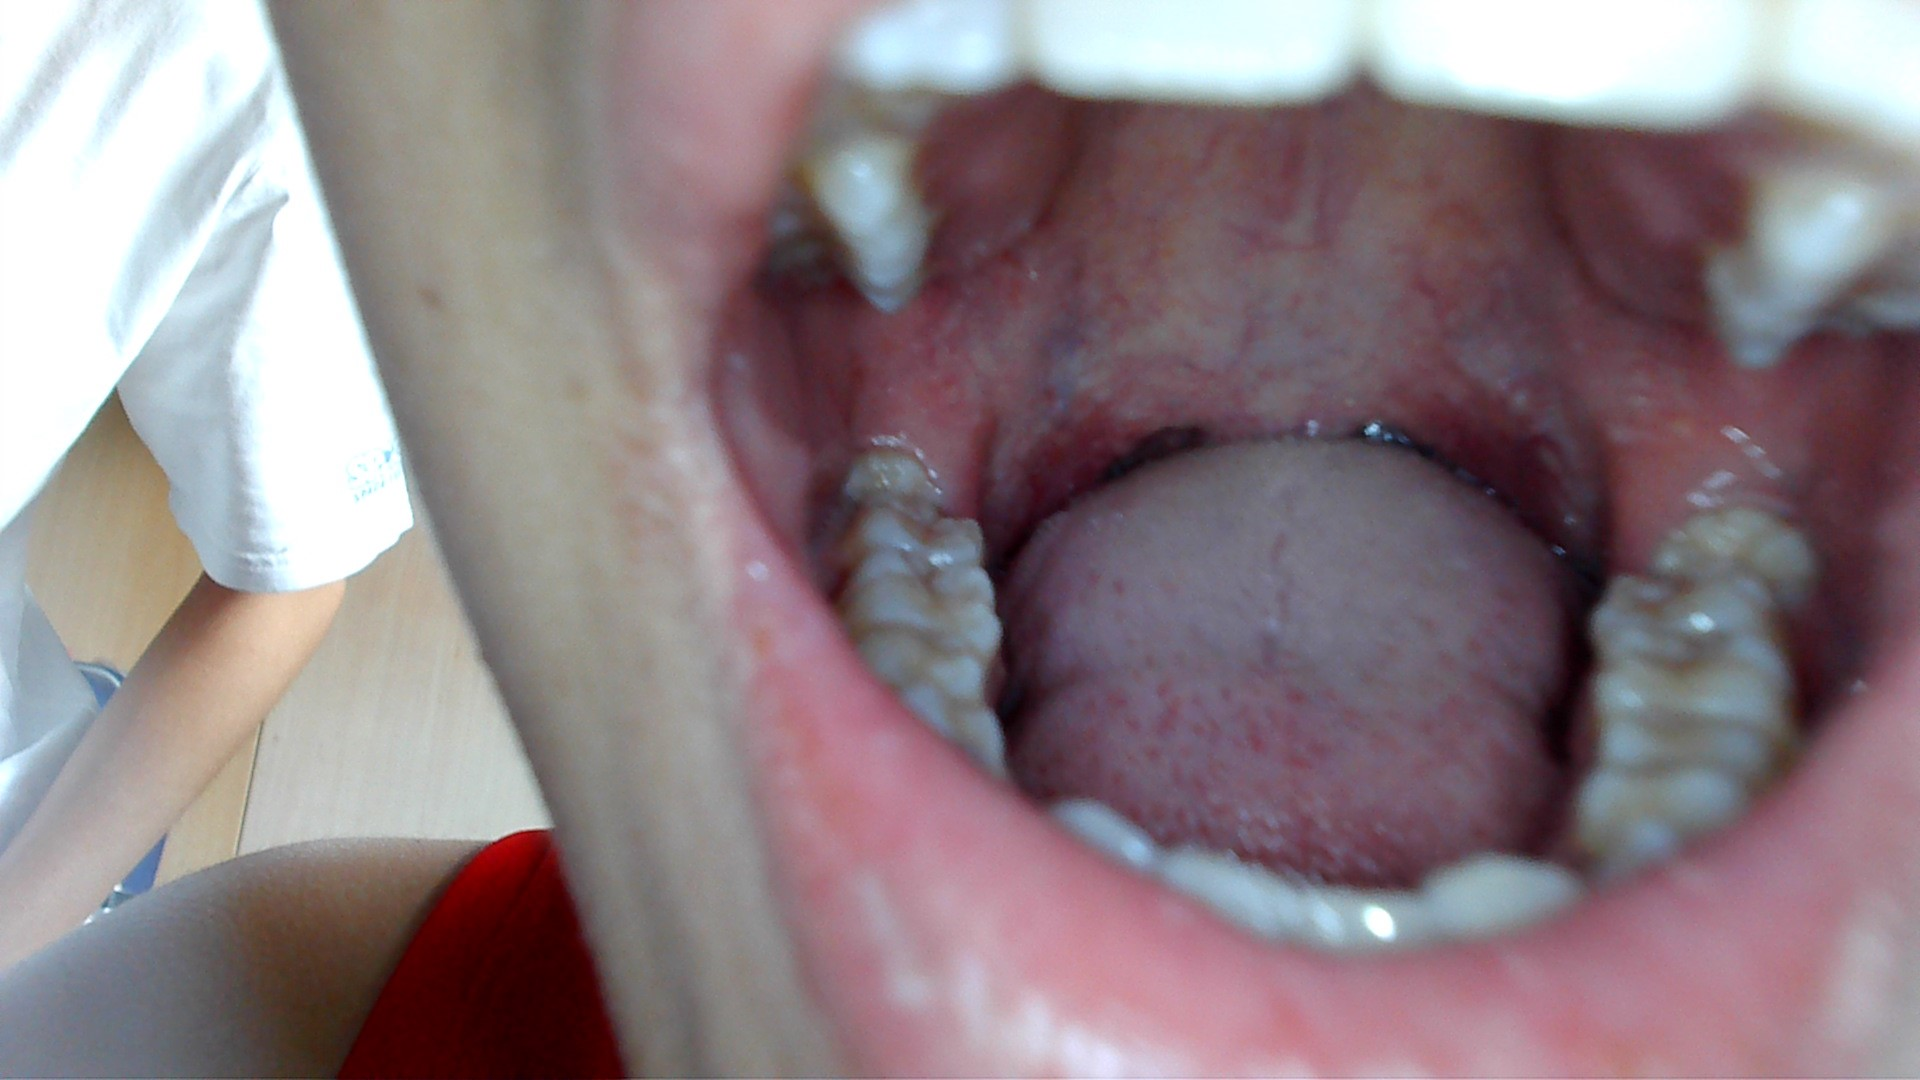throat: (1010, 340, 1189, 484), (1398, 380, 1571, 524)
